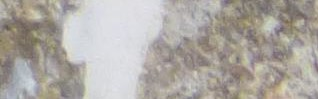Spalling: (134, 1, 318, 99), (1, 1, 88, 99)
